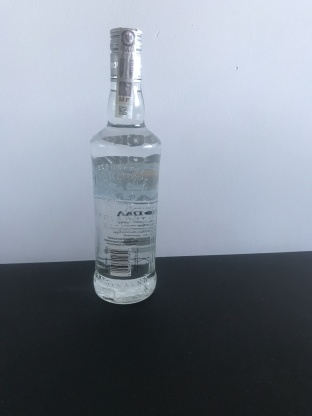nakretka: (108, 25, 144, 85)
